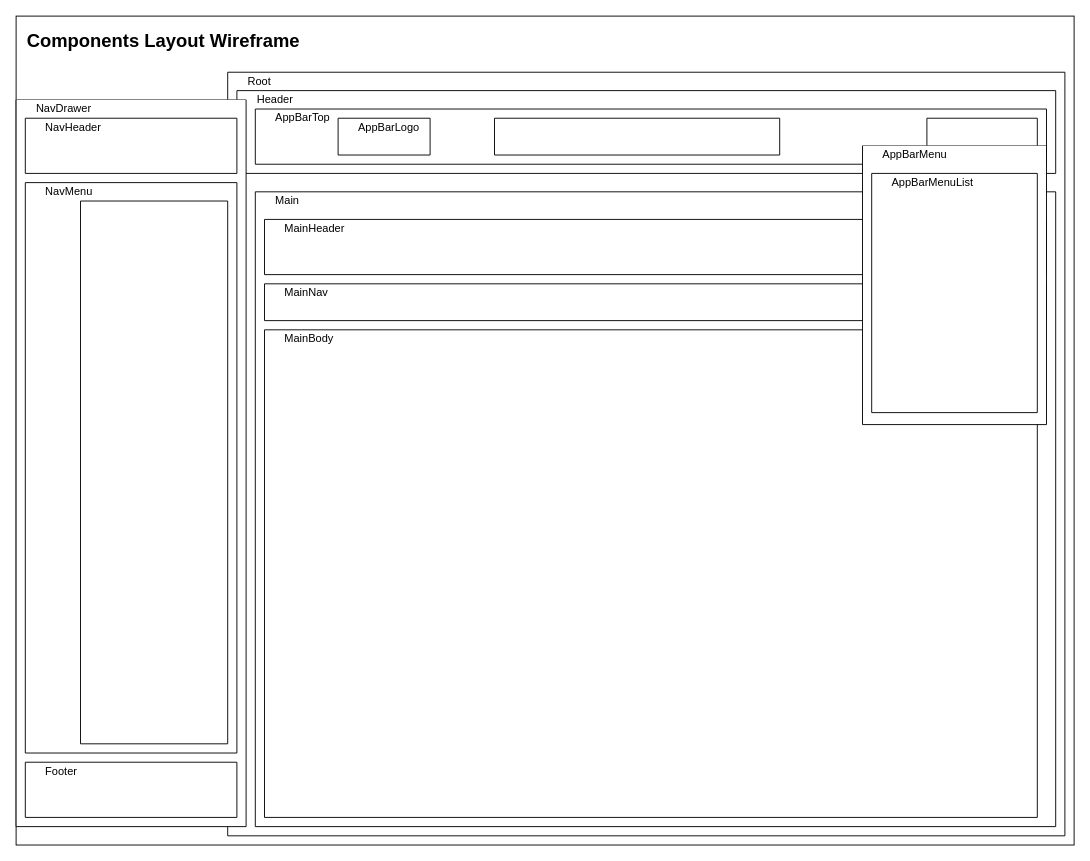
Image size: 1090x861. Some labels were removed from this diagram. The box of each missing label's shape, as (x1, y1, x2, y2) in pixels:
AppBarNav: (926, 117, 1037, 155)
AppBarSearch: (494, 117, 780, 155)
NavMenuList: (80, 200, 228, 744)
